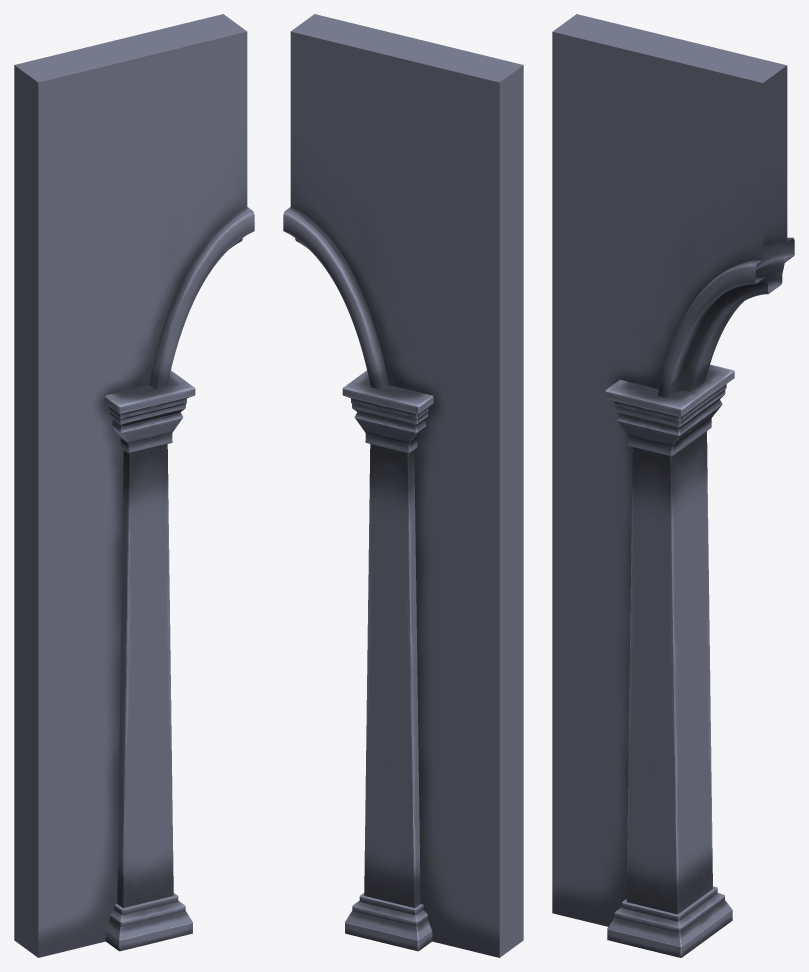
Rendered from BigArch2.fbx.
3 renders of one model, left to right at view 1: azimuth 30°, elevation 25°; view 2: azimuth 150°, elevation 25°; view 3: azimuth 330°, elevation 25°, orthographic.
Parts seen in each view (by area): view 1: Arch.014; view 2: Arch.014; view 3: Arch.014.
Boxes of the visible parts, bbox=[...] form: Arch.014: bbox=[14, 14, 254, 957]; Arch.014: bbox=[283, 14, 523, 957]; Arch.014: bbox=[552, 14, 794, 957].
Size of the model in its own units: 500 by 2000 by 220.
